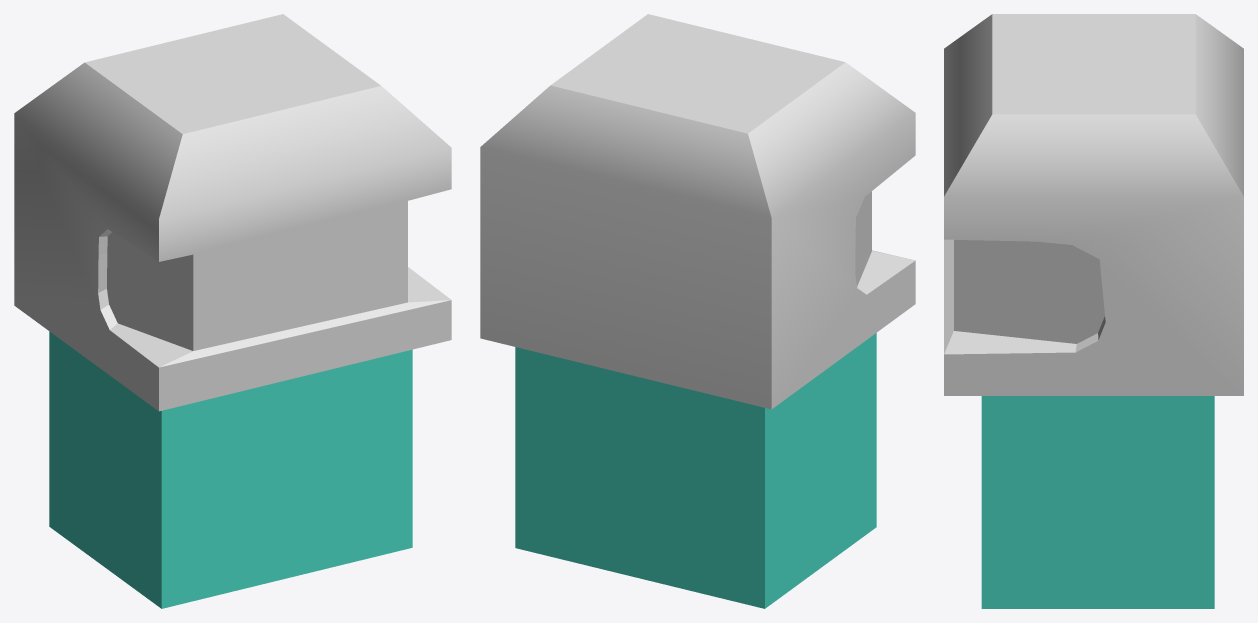
The model's file is char9.fbx.
The picture shows the model from 3 angles, left to right: view 1: azimuth 30°, elevation 25°; view 2: azimuth 150°, elevation 25°; view 3: azimuth 270°, elevation 25°; orthographic projection. The views are drawn at different scales.
Visible parts, largest first — view 1: pCube70; view 2: pCube70; view 3: pCube70.
Boxes of the visible parts, left/top/right/bottom form: pCube70: left=14, top=14, right=451, bottom=608; pCube70: left=480, top=14, right=915, bottom=608; pCube70: left=944, top=14, right=1243, bottom=608.
Size of the model in its own units: 2.24 by 3.4 by 1.92.
